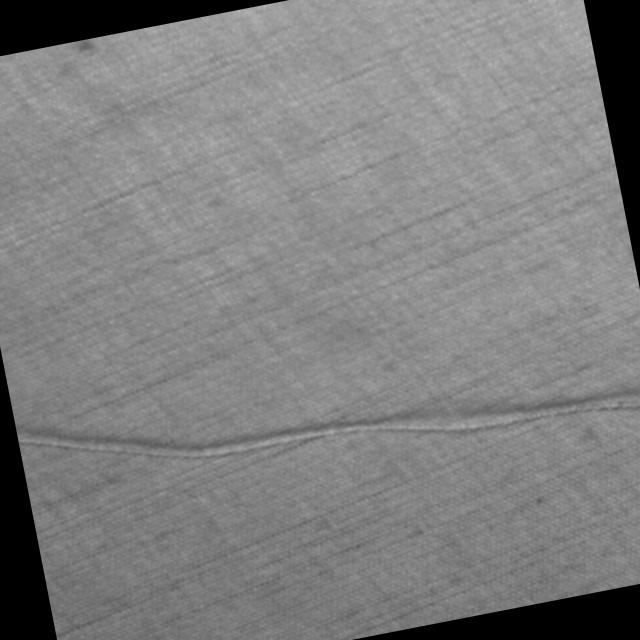Thread: (19, 317, 640, 530)
